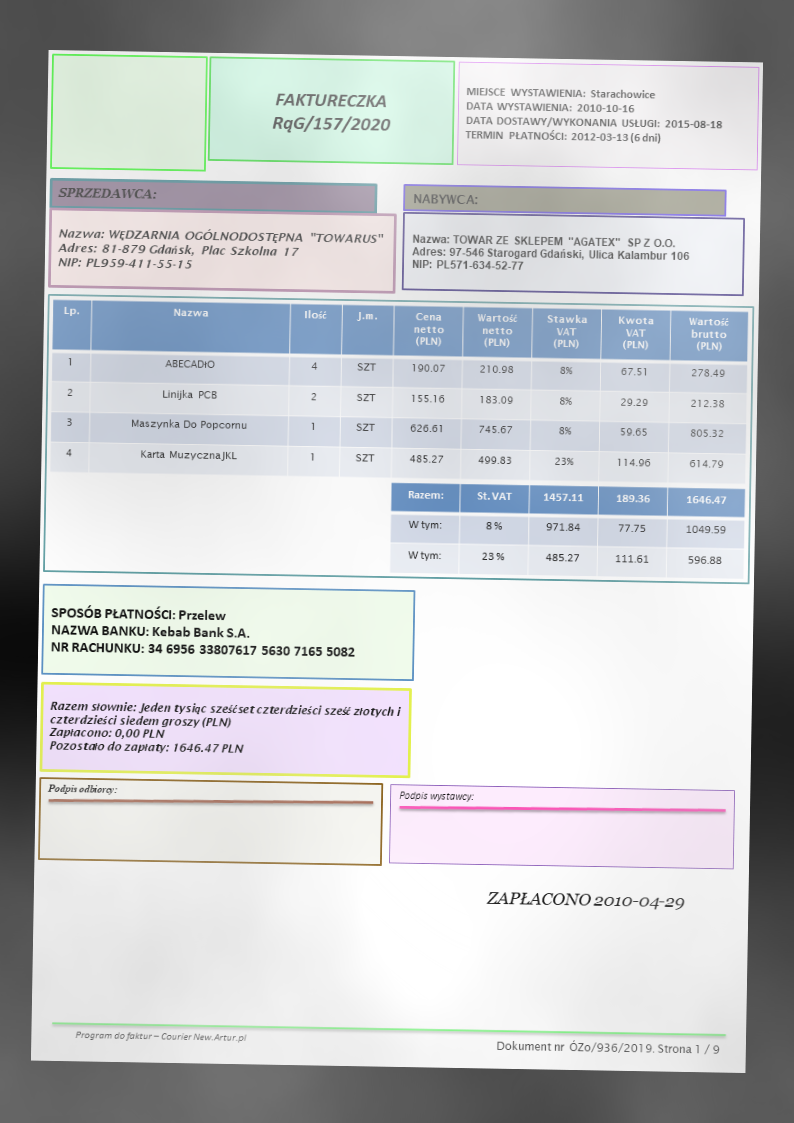Table: (48, 298, 749, 484), (388, 482, 747, 579)
TextBox: (46, 698, 404, 759), (47, 604, 358, 661), (55, 226, 385, 275), (463, 85, 725, 145), (409, 232, 691, 275), (269, 90, 393, 138), (485, 888, 686, 914), (495, 1039, 721, 1057), (72, 1028, 248, 1045), (55, 185, 158, 201), (410, 190, 480, 209), (397, 789, 475, 804), (45, 781, 120, 796)
